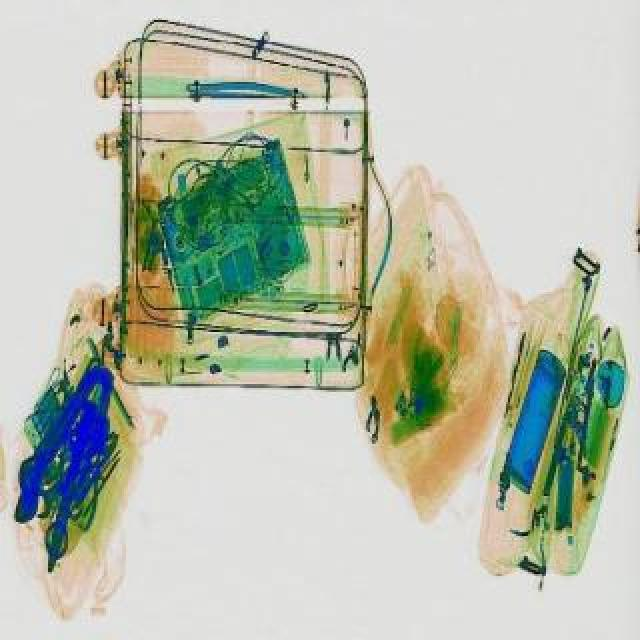scissors: (2, 350, 118, 514)
